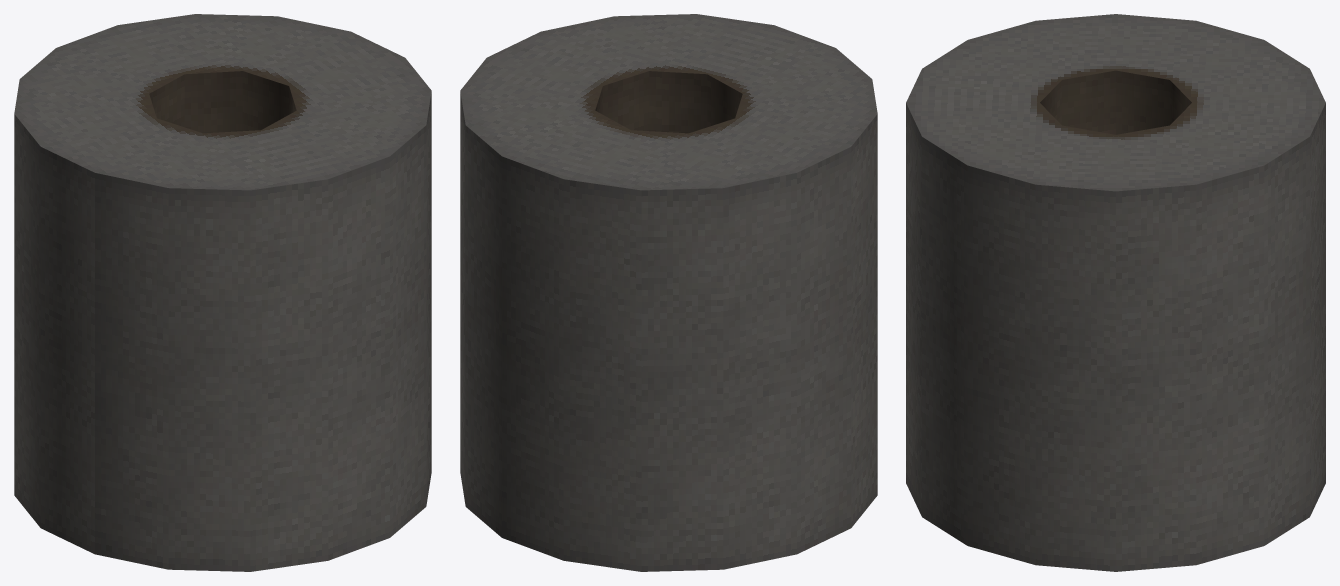
Rendered from toilet_paper_roll_mp_1.glb.
The picture shows the model from 3 angles, left to right: view 1: azimuth 30°, elevation 25°; view 2: azimuth 150°, elevation 25°; view 3: azimuth 270°, elevation 25°; orthographic projection.
Parts seen in each view (by area): view 1: toilet_paper_roll_mp_1; view 2: toilet_paper_roll_mp_1; view 3: toilet_paper_roll_mp_1.
Part boxes in pixels (<box>): toilet_paper_roll_mp_1: <box>14,14,431,571</box>; toilet_paper_roll_mp_1: <box>460,14,877,571</box>; toilet_paper_roll_mp_1: <box>906,14,1325,571</box>.
Size of the model in its own units: 0.144 by 0.144 by 0.144.
Materials: 1 (1 with a texture image).
